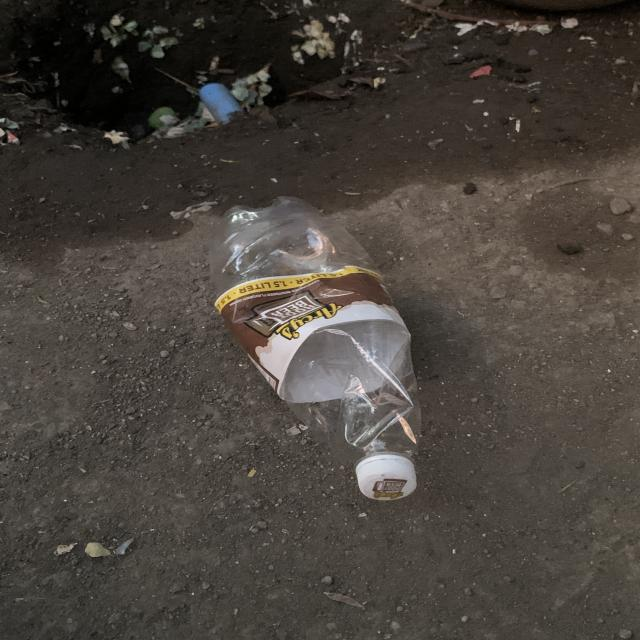Bottle: (210, 197, 420, 501)
